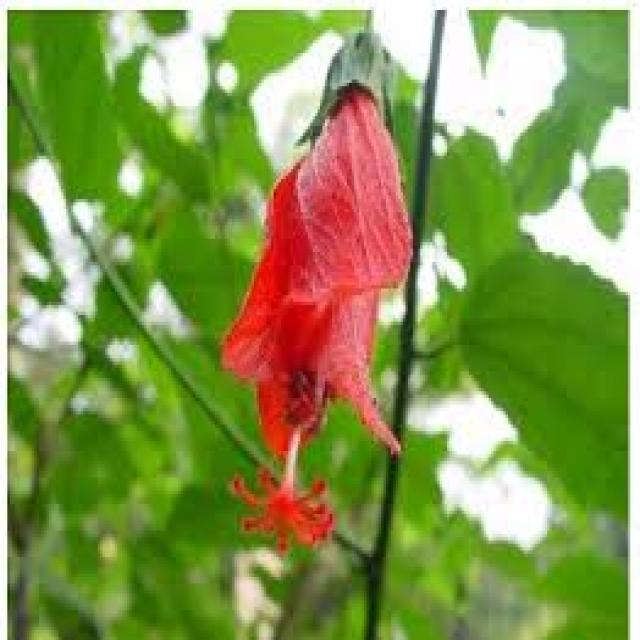Flower: (203, 30, 415, 567)
